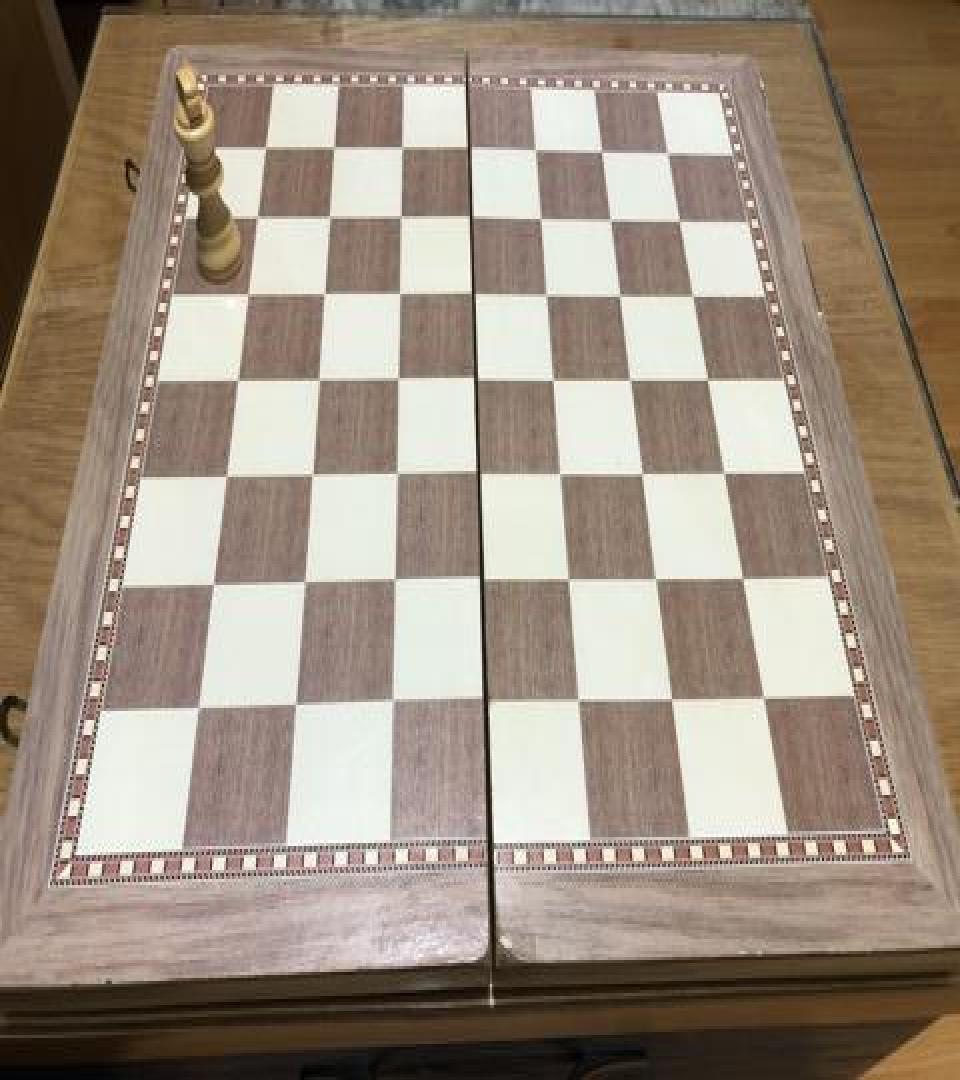xcorner: (302, 454, 328, 494), (216, 454, 242, 494), (294, 562, 320, 602), (753, 676, 779, 716), (477, 682, 503, 722), (188, 688, 214, 728), (591, 132, 617, 171), (526, 131, 552, 170), (459, 129, 485, 168), (325, 126, 351, 165), (256, 125, 282, 164), (669, 201, 695, 240), (531, 198, 557, 237), (462, 198, 488, 237), (391, 197, 417, 236), (320, 195, 346, 234), (682, 276, 708, 315), (610, 274, 636, 313), (537, 274, 563, 313), (464, 273, 490, 312), (390, 273, 416, 312), (697, 358, 723, 397), (621, 358, 647, 397), (544, 358, 570, 397), (467, 358, 493, 397), (388, 358, 414, 397), (308, 357, 334, 396), (228, 357, 254, 396), (713, 453, 739, 492), (633, 453, 659, 492), (552, 453, 578, 492), (469, 453, 495, 492), (386, 453, 412, 492), (732, 558, 758, 597), (647, 558, 673, 597), (560, 559, 586, 598), (473, 561, 499, 600), (384, 561, 410, 600), (203, 564, 229, 603), (662, 678, 688, 717), (570, 681, 596, 720), (382, 684, 408, 723), (285, 687, 311, 726), (656, 134, 682, 172), (392, 128, 418, 166), (600, 200, 626, 238), (248, 194, 274, 232), (314, 272, 340, 310), (239, 272, 265, 310)
